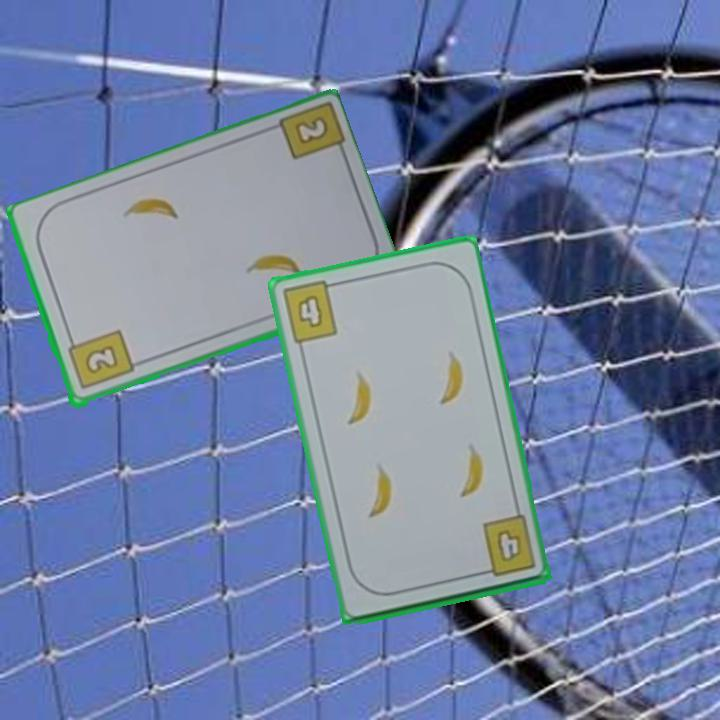2b: (64, 327, 136, 393), (294, 116, 328, 145)
4b: (474, 511, 539, 580), (278, 277, 341, 346)
